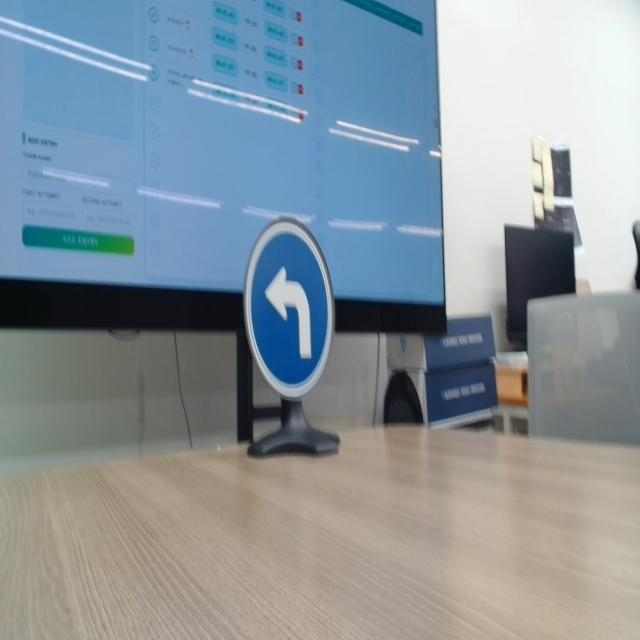left_direction: (236, 215, 343, 406)
